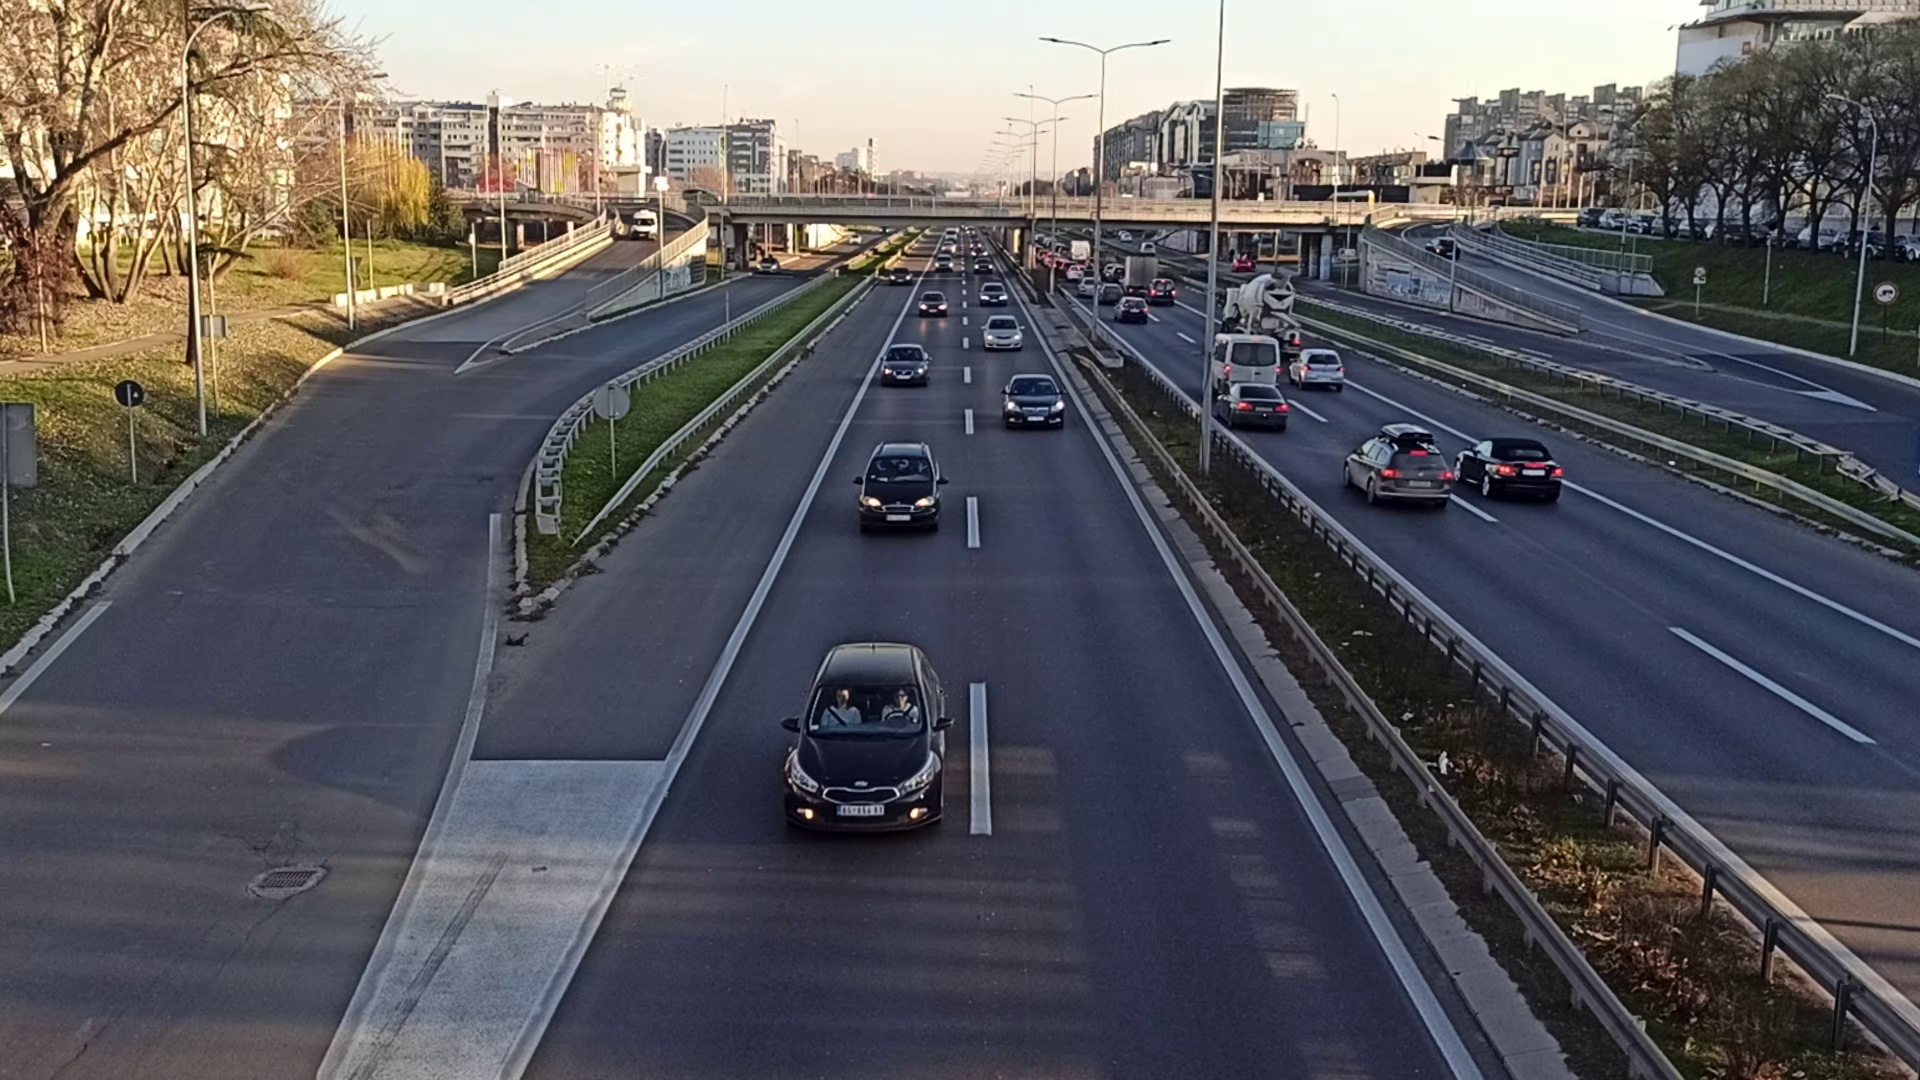car: (785, 636, 947, 848), (1342, 425, 1448, 502), (858, 440, 942, 535), (1458, 436, 1563, 501), (1000, 375, 1065, 434), (1218, 384, 1284, 426), (881, 340, 928, 386), (1295, 349, 1341, 386), (982, 314, 1022, 349), (916, 289, 948, 319)
truck: (1225, 274, 1294, 338)
van: (1211, 334, 1278, 394)
